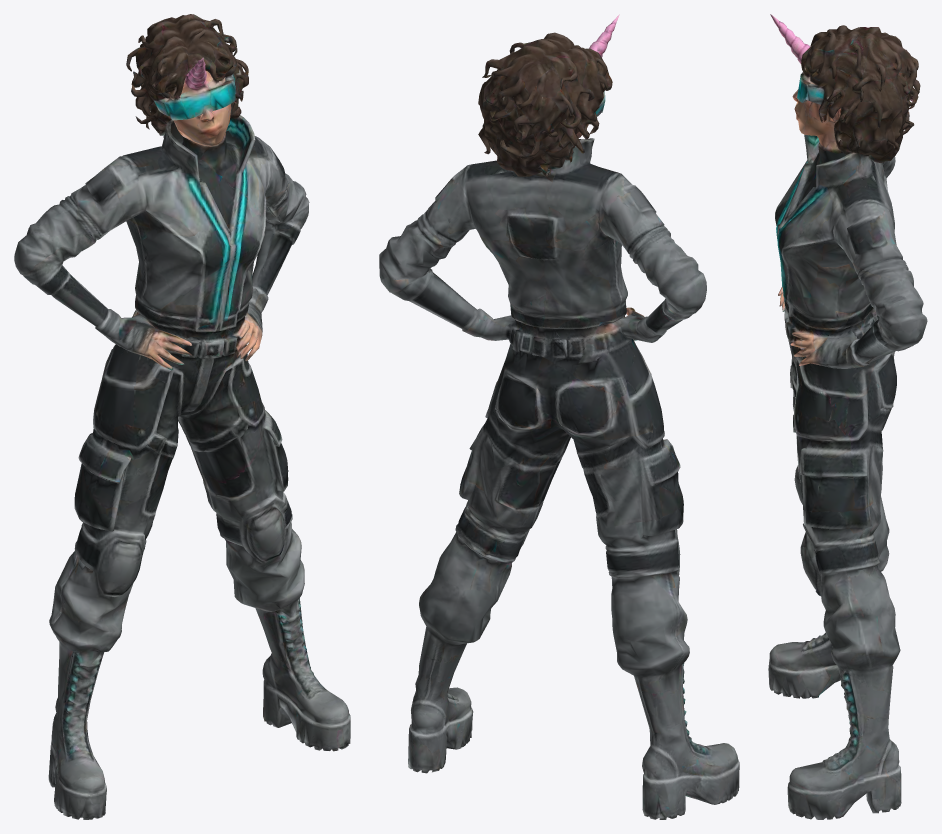
File: chr_mariaclara_hero_mobile.glb
3 renders of one model, left to right at view 1: azimuth 30°, elevation 25°; view 2: azimuth 150°, elevation 25°; view 3: azimuth 270°, elevation 25°, orthographic. The views are drawn at different scales.
Size of the model in its own units: 0.8211 by 1.9 by 0.3775.
Materials: 1 (1 with a texture image).
